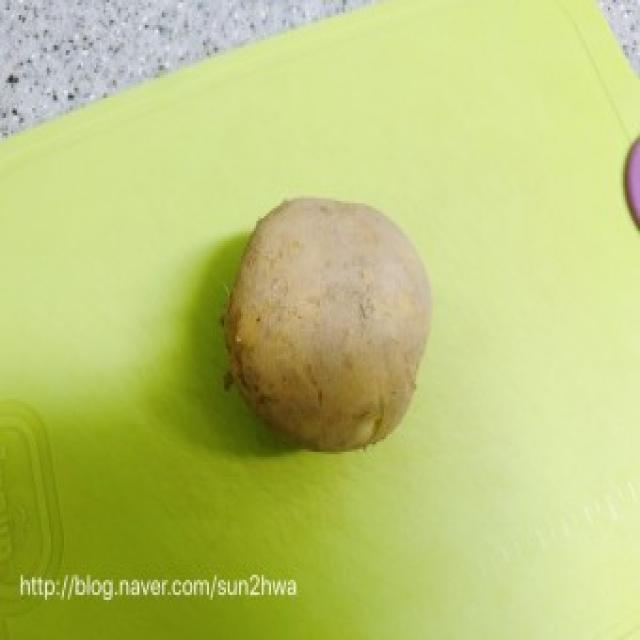potato: (224, 192, 434, 459)
